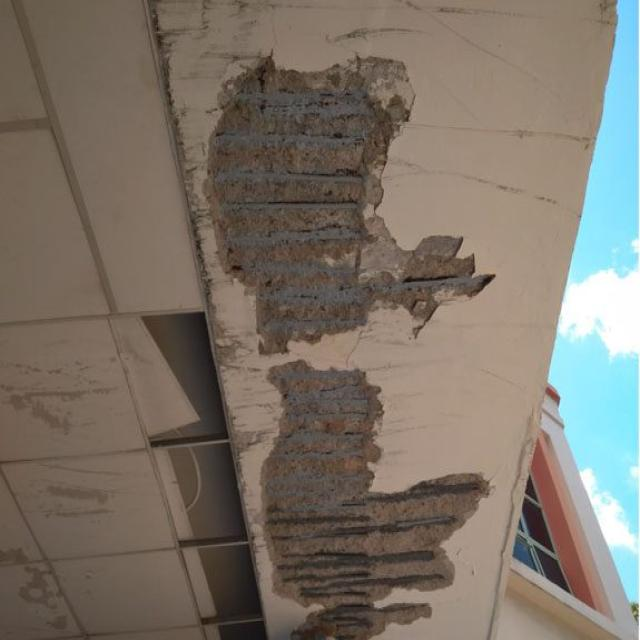Spalling: (206, 27, 503, 640)
